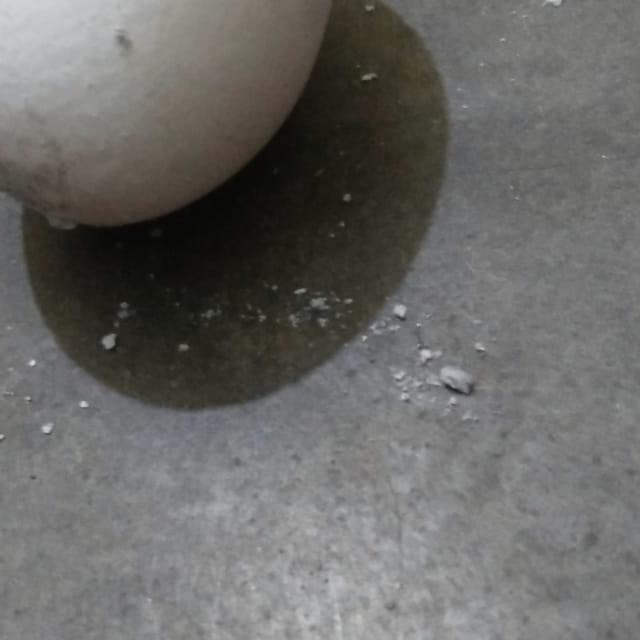egg: (0, 0, 346, 232)
